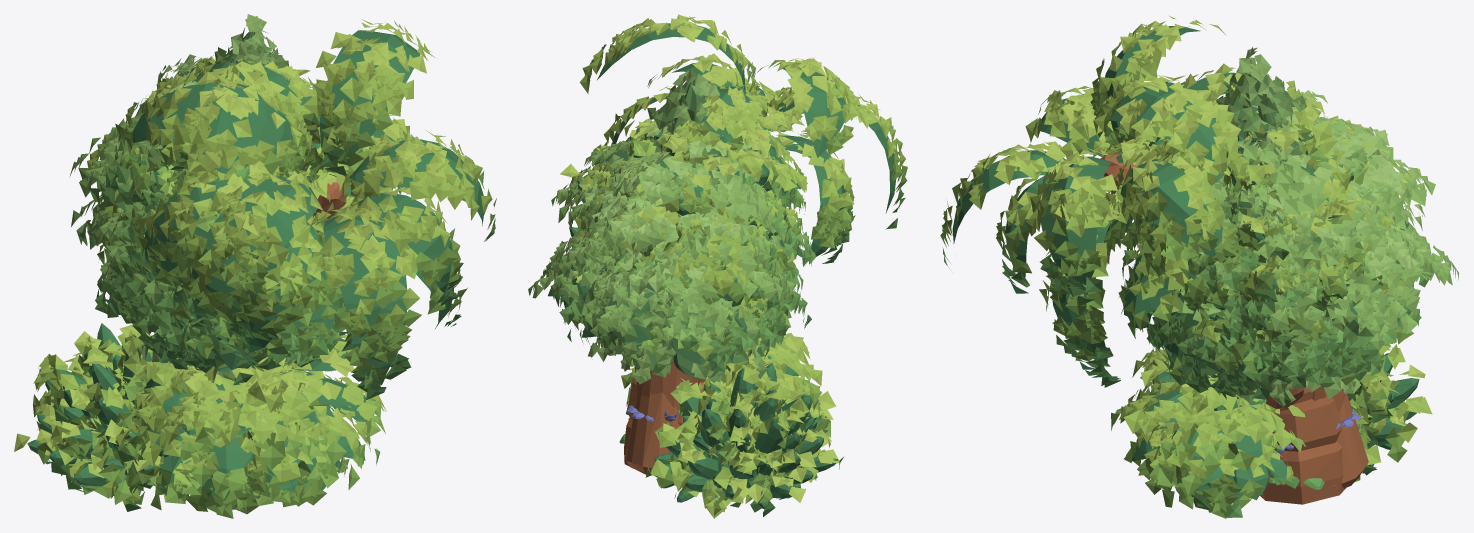
File: plants.glb
The picture shows the model from 3 angles, left to right: view 1: azimuth 30°, elevation 25°; view 2: azimuth 150°, elevation 25°; view 3: azimuth 270°, elevation 25°; orthographic projection. The views are drawn at different scales.
Parts seen in each view (by area): view 1: T7, B0, B2, B1, T0, T3, T5, T6, T1, T9, T8; view 2: T0, T7, B2, T5, T9, T6, T1, B0, T3, T2, T8; view 3: T7, T0, B1, T5, T3, T1, T9, T2, B2, T6, T8, T4 (+1 smaller).
Part boxes in pixels (x1,y1,x2,y2): T7: (115,19,496,399); B0: (131,357,314,518); B2: (14,323,192,511); B1: (210,334,386,507); T0: (69,54,403,369); T3: (140,97,384,385); T5: (92,64,344,360); T6: (97,85,235,359); T1: (137,14,303,380); T9: (87,55,215,340); T8: (117,78,350,372); T0: (528,121,815,473); T7: (579,14,907,475); B2: (645,358,843,518); T5: (555,130,803,365); T9: (562,118,802,370); T6: (572,127,796,363); T1: (588,67,786,384); B0: (698,333,823,418); T3: (738,106,811,328); T2: (560,120,664,283); T8: (583,118,799,371); T7: (940,15,1345,504); T0: (1124,90,1458,488); B1: (1111,353,1306,518); T5: (1132,91,1419,387); T3: (1093,99,1315,392); T1: (1207,47,1380,409); T9: (1136,96,1414,388); T2: (1172,122,1407,410); B2: (1347,343,1432,481); T6: (1183,108,1401,389); T8: (1135,111,1396,399); T4: (1121,118,1249,312).
Bounding box in the file's own units: 1.72 × 2.28 × 2.42.
